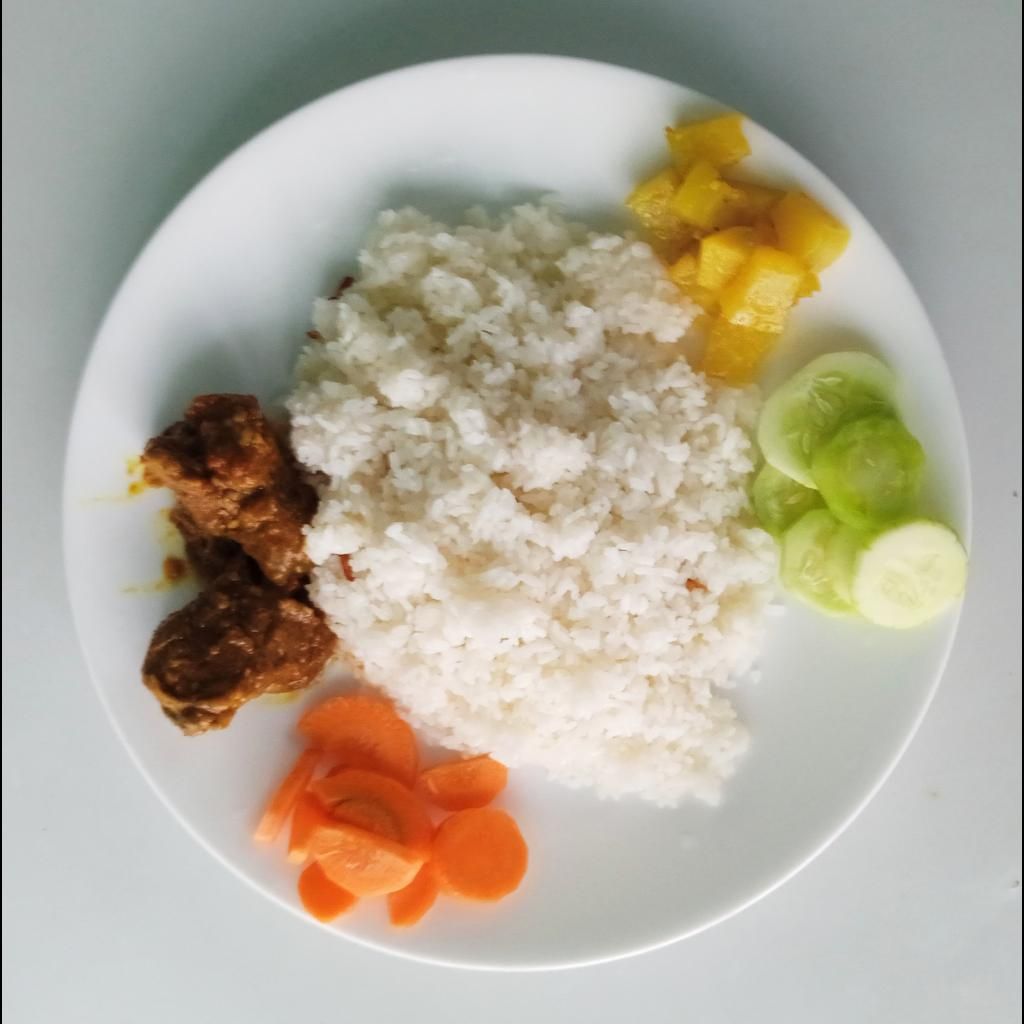beef: (142, 392, 343, 741)
carrot: (249, 686, 533, 929)
cucumber: (750, 351, 971, 630)
kumra-vaji: (627, 113, 854, 383)
rice: (283, 190, 785, 806)
